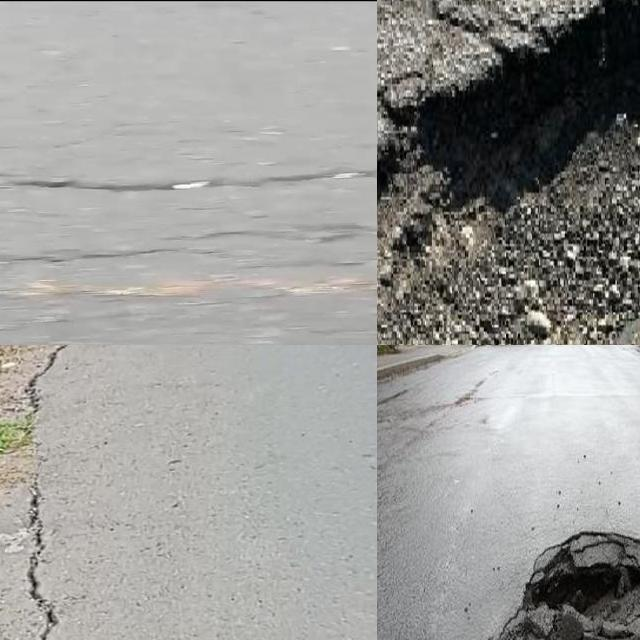Lubang: (377, 0, 640, 345), (489, 530, 640, 640)
Melintang: (0, 154, 377, 207)
Memanjang: (11, 345, 82, 640)
